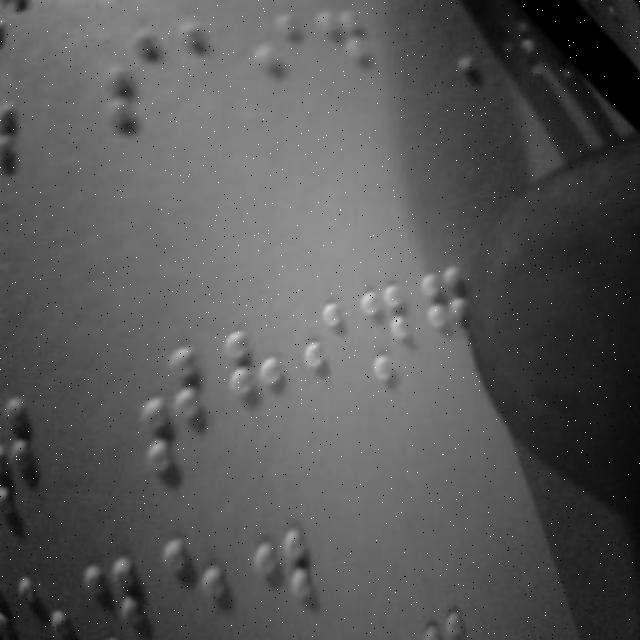A: (178, 15, 234, 116)
D: (315, 4, 371, 104)
E: (163, 534, 224, 640)
H: (224, 321, 288, 441)
I: (296, 298, 354, 416), (248, 8, 310, 114)
N: (356, 278, 414, 404)
R: (104, 21, 168, 133)
S: (130, 341, 208, 482)
